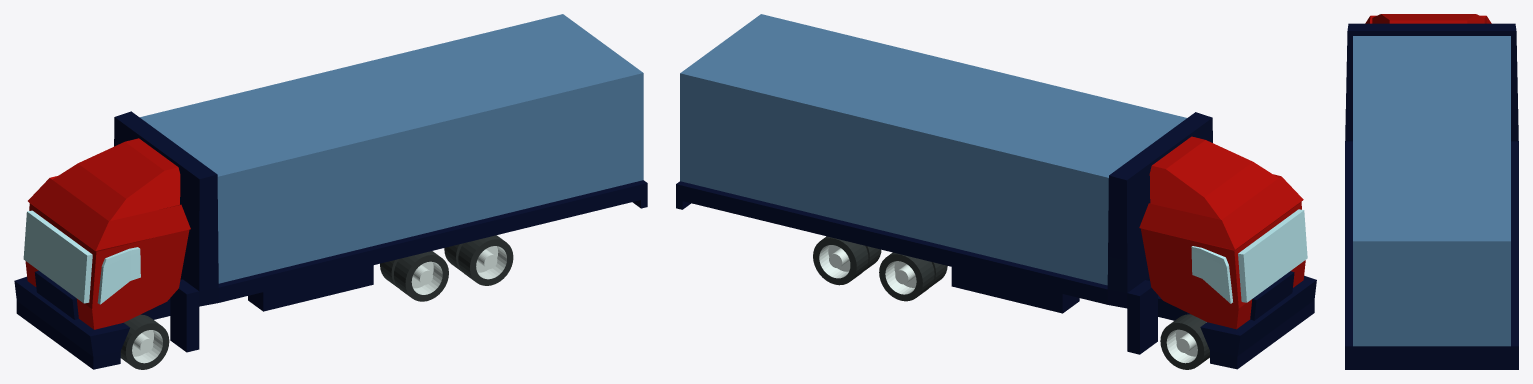
The model's file is truck.fbx.
3 renders of one model, left to right at view 1: azimuth 30°, elevation 25°; view 2: azimuth 150°, elevation 25°; view 3: azimuth 270°, elevation 25°, orthographic. The views are drawn at different scales.
Visible parts, largest first — view 1: Cube.045, Cube.049, Cube.048, Cylinder.002, Cylinder.001, Cylinder.019, Cube.047; view 2: Cube.045, Cube.049, Cube.048, Cylinder.005, Cylinder.006, Cylinder.007, Cube.046; view 3: Cube.045, Cube.049.
Boxes of the visible parts, box(x1,y1,x2,y2) form: Cube.045: box(114, 14, 647, 352); Cube.049: box(14, 138, 190, 369); Cube.048: box(23, 210, 92, 303); Cylinder.002: box(458, 235, 513, 285); Cylinder.001: box(394, 251, 448, 301); Cylinder.019: box(120, 314, 169, 369); Cube.047: box(97, 247, 140, 304); Cube.045: box(676, 14, 1212, 354); Cube.049: box(1139, 136, 1316, 369); Cube.048: box(1238, 209, 1307, 302); Cylinder.005: box(1160, 314, 1209, 369); Cylinder.006: box(879, 252, 934, 301); Cylinder.007: box(813, 236, 868, 285); Cube.046: box(1191, 246, 1232, 303); Cube.045: box(1345, 23, 1518, 369); Cube.049: box(1365, 14, 1491, 23).
Size of the model in its own units: 1501 by 462 by 416.
